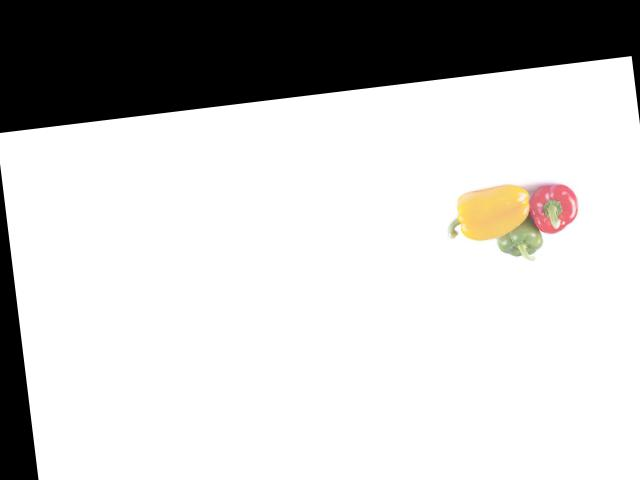bell_pepper: (490, 212, 549, 265)
